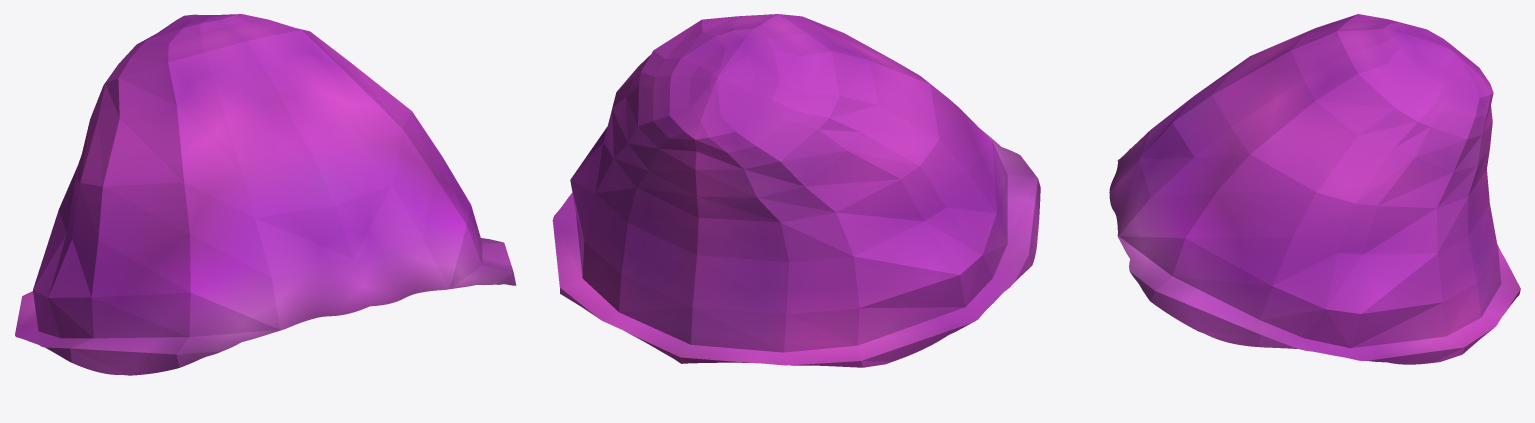
File: Pink Beanie.fbx
3 renders of one model, left to right at view 1: azimuth 30°, elevation 25°; view 2: azimuth 150°, elevation 25°; view 3: azimuth 270°, elevation 25°, orthographic. The views are drawn at different scales.
Visible parts, largest first — view 1: Cube; view 2: Cube; view 3: Cube.
Boxes of the visible parts, bbox=[...] form: Cube: bbox=[15, 14, 516, 375]; Cube: bbox=[552, 14, 1040, 367]; Cube: bbox=[1109, 14, 1520, 364].
Bounding box in the file's own units: 30.58 × 21.87 × 28.67.
